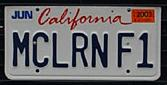1: (137, 30, 157, 70)
C: (32, 32, 50, 68)
F: (116, 30, 134, 69)
L: (51, 31, 70, 69)
M: (11, 30, 31, 68)
N: (90, 31, 110, 69)
R: (72, 31, 89, 69)
